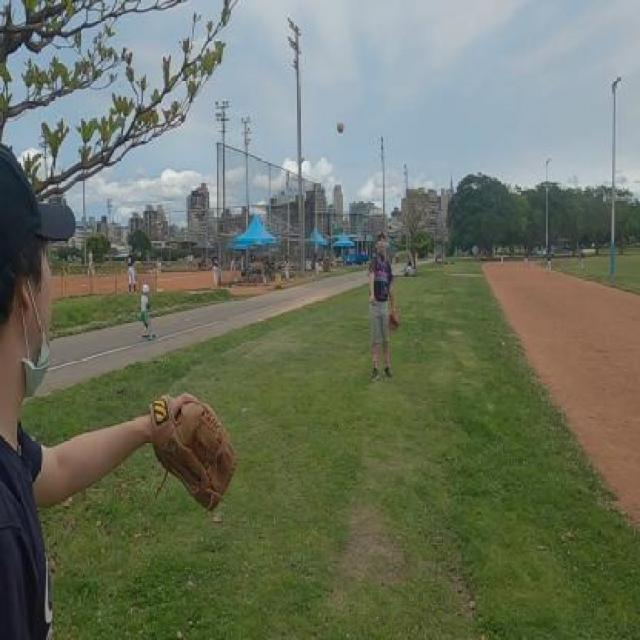baseball: (337, 120, 345, 134)
